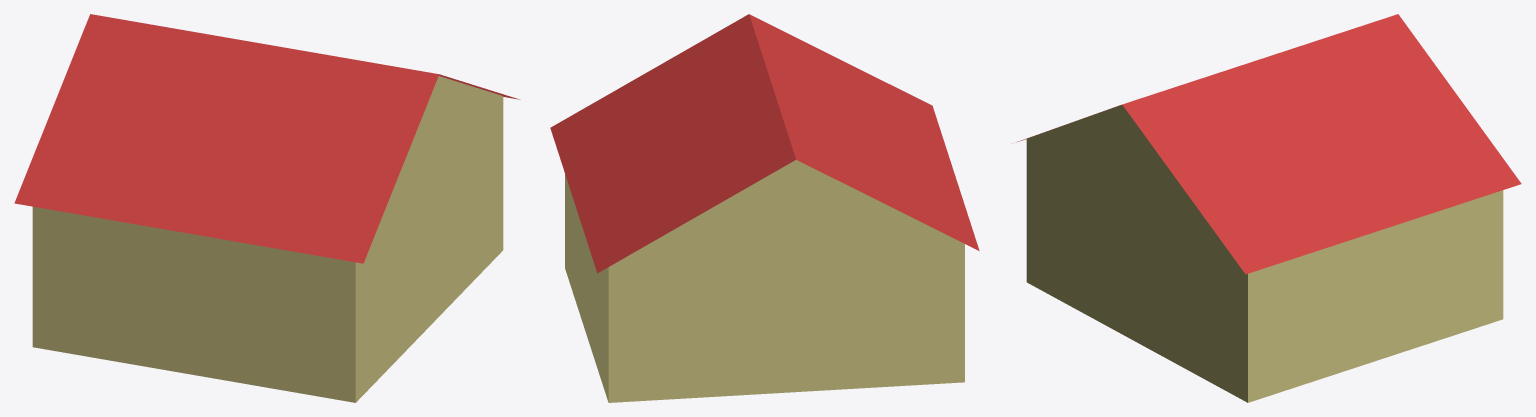
3 renders of one model, left to right at view 1: azimuth 30°, elevation 25°; view 2: azimuth 150°, elevation 25°; view 3: azimuth 270°, elevation 25°, orthographic. The views are drawn at different scales.
Size of the model in its own units: 29.7 by 29.32 by 15.05.
